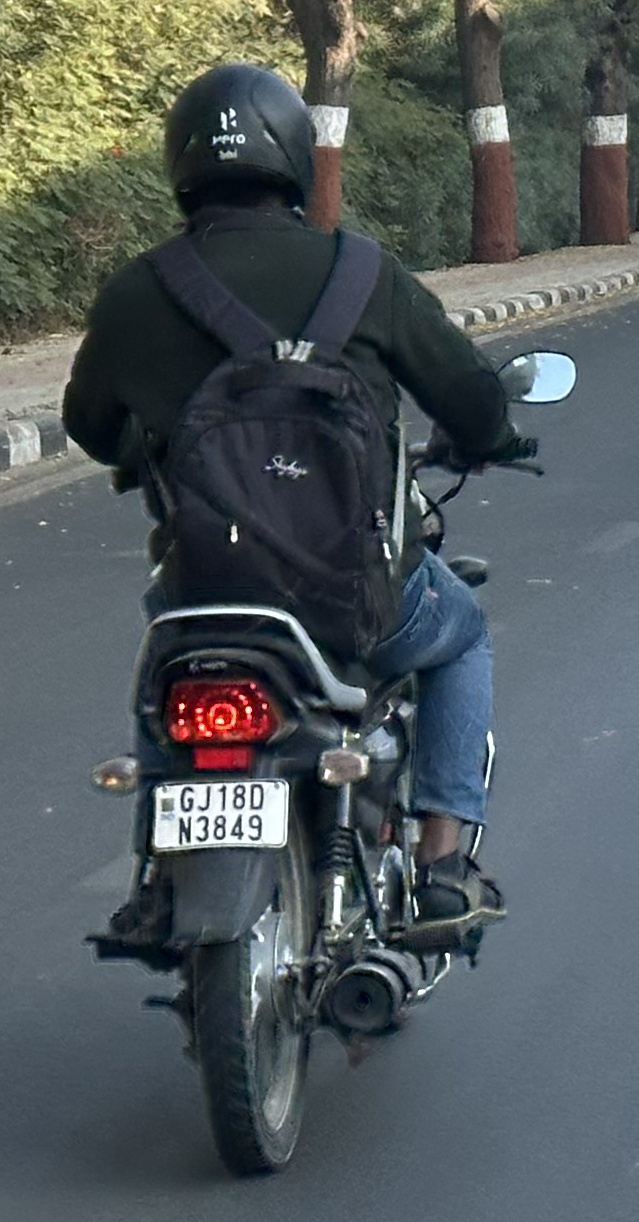BikeWithRider: (44, 46, 586, 1192)
Helmet: (144, 50, 331, 236)
